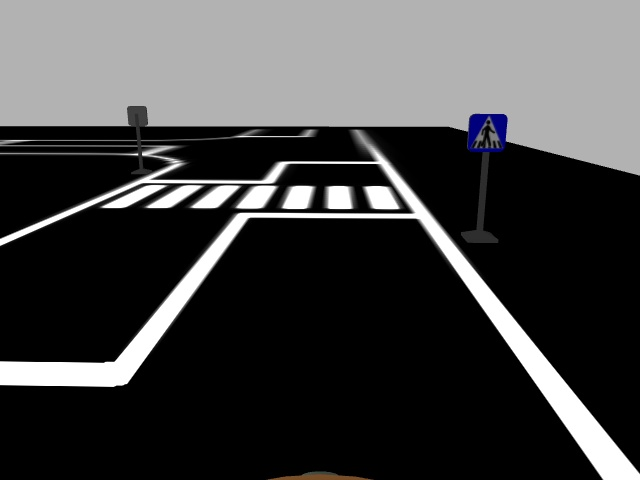crosswalk: (464, 109, 510, 156)
